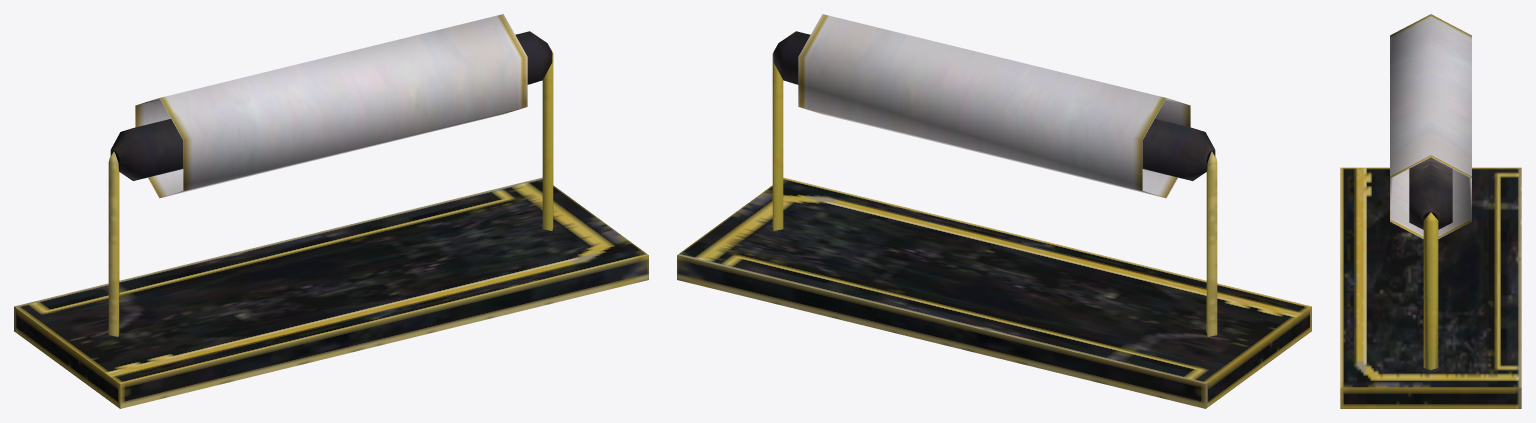
The model's file is frn_all_lamp_desk_s1_l0.fbx.
The picture shows the model from 3 angles, left to right: view 1: azimuth 30°, elevation 25°; view 2: azimuth 150°, elevation 25°; view 3: azimuth 270°, elevation 25°; orthographic projection. The views are drawn at different scales.
Visible parts, largest first — view 1: mesh_node; view 2: mesh_node; view 3: mesh_node.
Boxes of the visible parts, left/top/right/bottom form: mesh_node: left=14, top=14, right=648, bottom=408; mesh_node: left=677, top=14, right=1311, bottom=408; mesh_node: left=1340, top=14, right=1521, bottom=408.
Bounding box in the file's own units: 0.3577 × 0.1615 × 0.1244.
